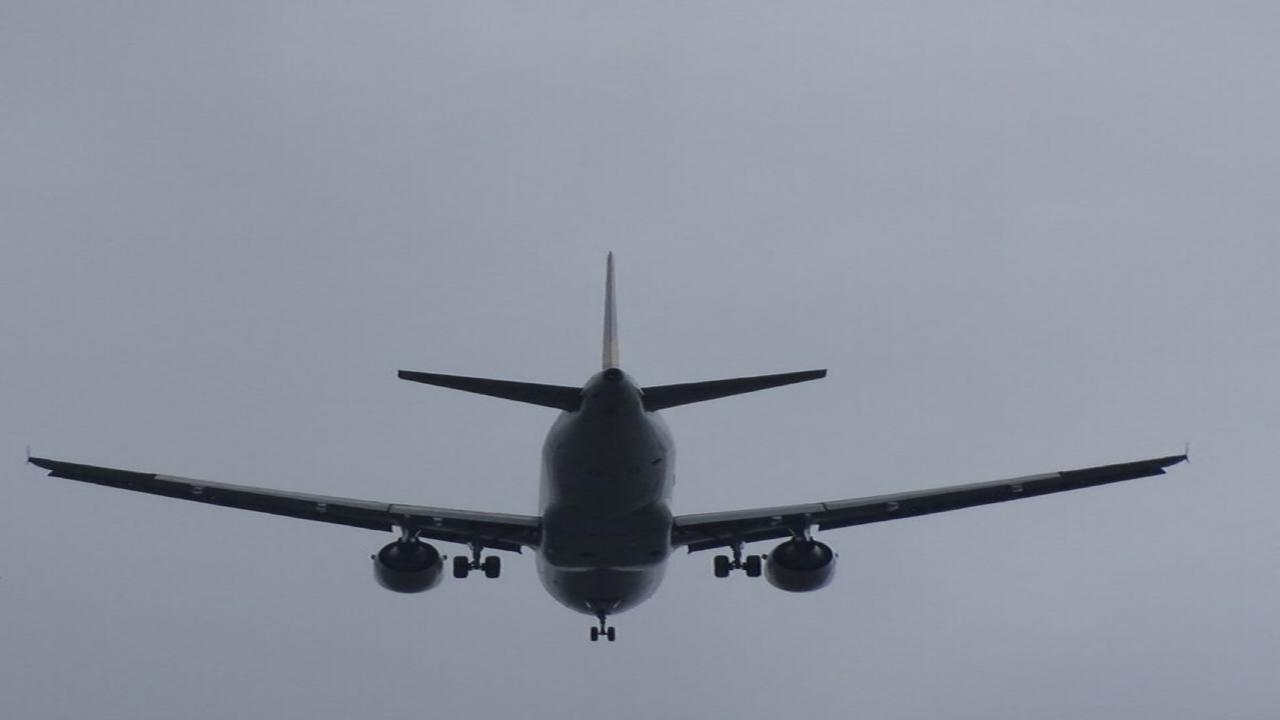Airplane: (0, 253, 1213, 657)
